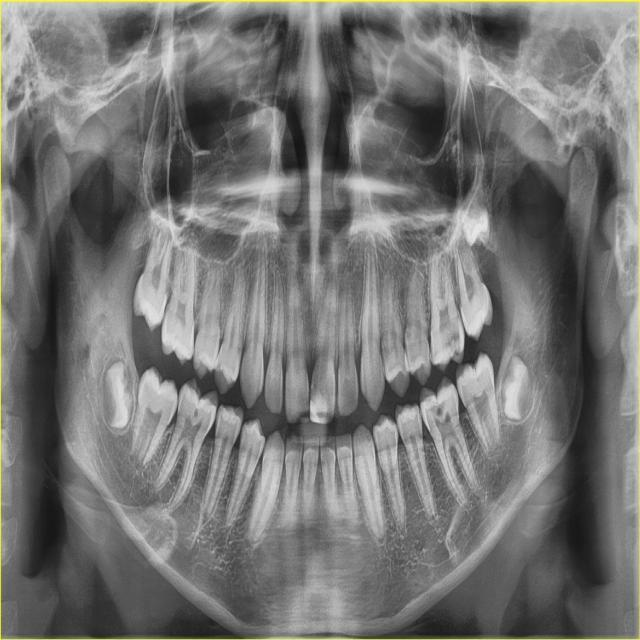Sterngold Implant: (443, 329, 463, 359), (429, 394, 448, 418), (473, 374, 485, 385), (474, 304, 485, 315), (193, 407, 199, 419)
Straumann Implant: (309, 386, 329, 423)
